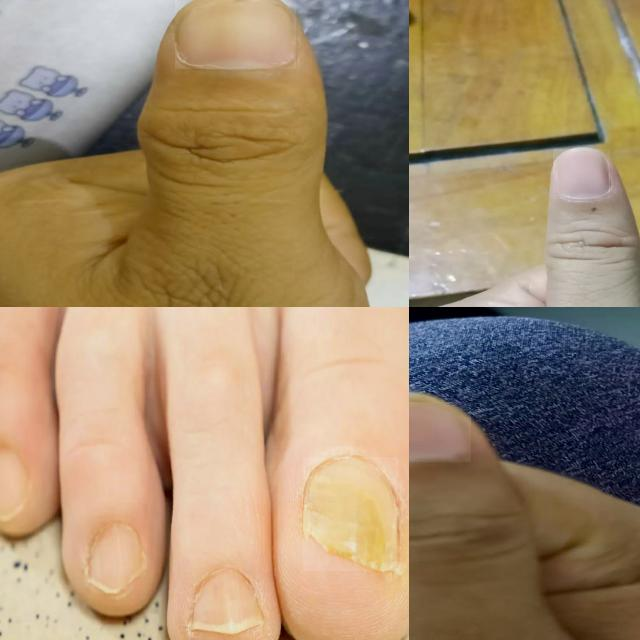diabetes: (304, 458, 398, 571)
sehat: (176, 0, 296, 69), (194, 569, 262, 627), (409, 403, 471, 462), (88, 527, 141, 592), (554, 150, 610, 199), (0, 449, 26, 515)
